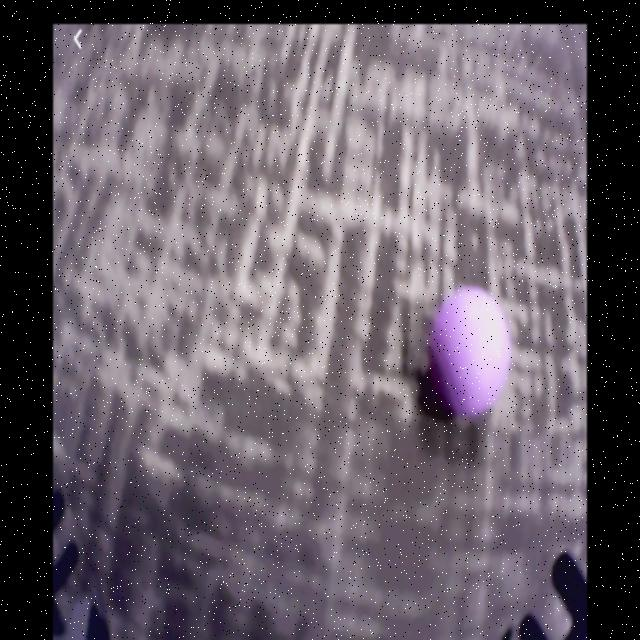ball: (434, 288, 510, 421)
